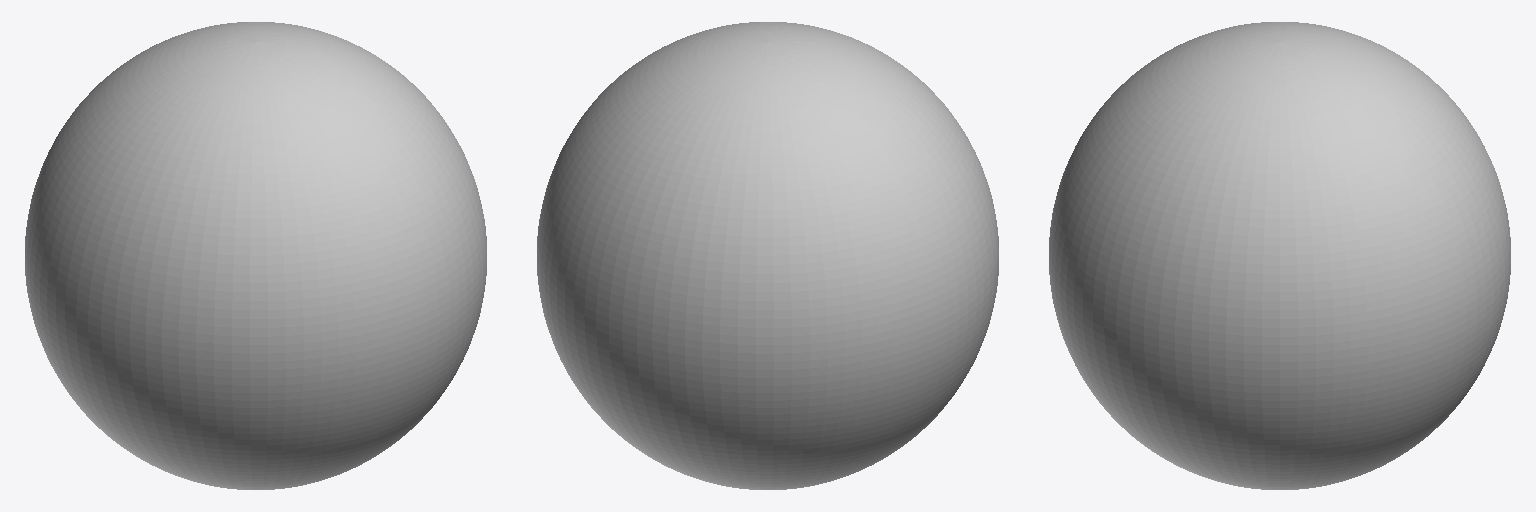
The model's file is f_neck.obj.
3 renders of one model, left to right at view 1: azimuth 30°, elevation 25°; view 2: azimuth 150°, elevation 25°; view 3: azimuth 270°, elevation 25°, orthographic.
Visible parts, largest first — view 1: pSphere2; view 2: pSphere2; view 3: pSphere2.
Part boxes in pixels (x1,y1,x2,y2): pSphere2: (25,22,486,489); pSphere2: (537,22,998,489); pSphere2: (1049,22,1510,489).
Size of the model in its own units: 0.4592 by 0.4674 by 0.4592.